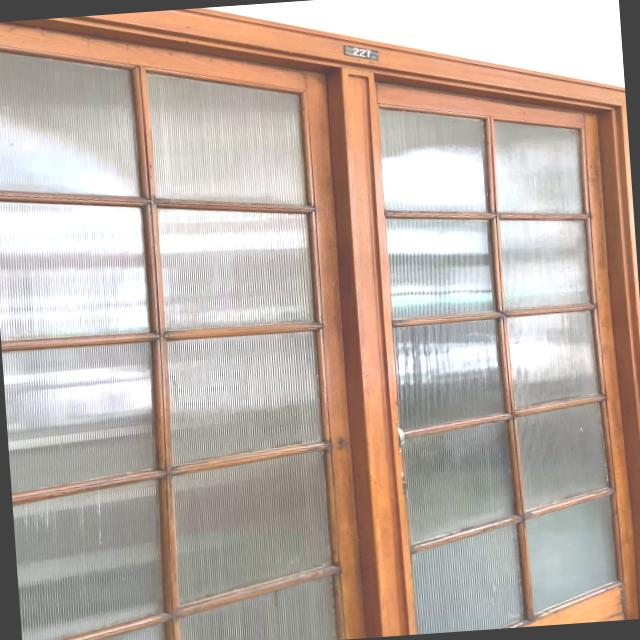room227: (342, 41, 379, 63)
